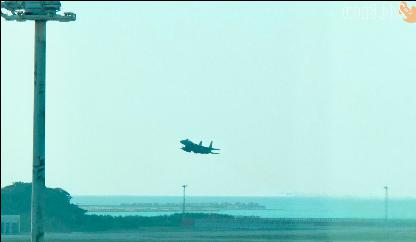F117: (178, 138, 221, 152)
